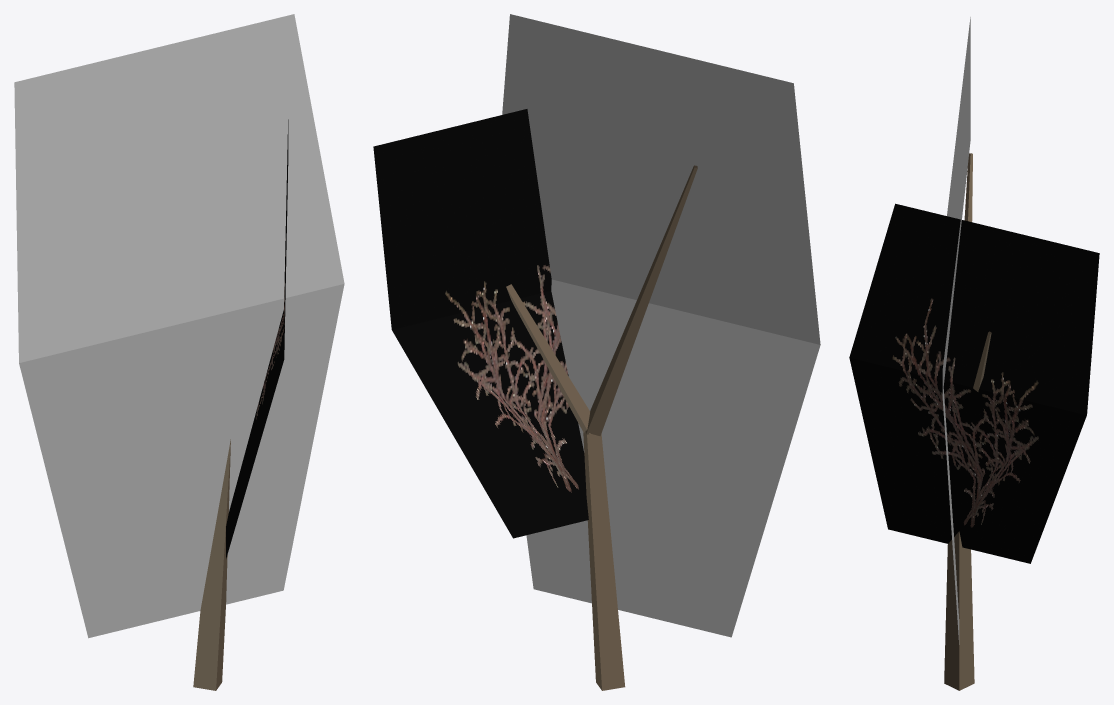
Rendered from Branch_01_Upright_Fork.fbx.
3 renders of one model, left to right at view 1: azimuth 30°, elevation 25°; view 2: azimuth 150°, elevation 25°; view 3: azimuth 270°, elevation 25°, orthographic. The views are drawn at different scales.
Visible parts, largest first — view 1: Branch_01_Upright_Fork.001; view 2: Branch_01_Upright_Fork.001; view 3: Branch_01_Upright_Fork.001.
Boxes of the visible parts, x1,y1,x2,y2 form: Branch_01_Upright_Fork.001: (14, 14, 344, 690); Branch_01_Upright_Fork.001: (373, 14, 820, 690); Branch_01_Upright_Fork.001: (849, 17, 1099, 690).
Bounding box in the file's own units: 98.11 × 170 × 65.77.
